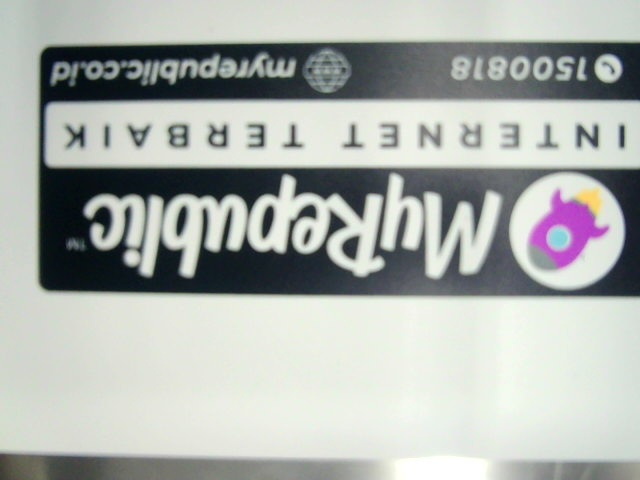BD_MyRepublic: (35, 41, 639, 301)
